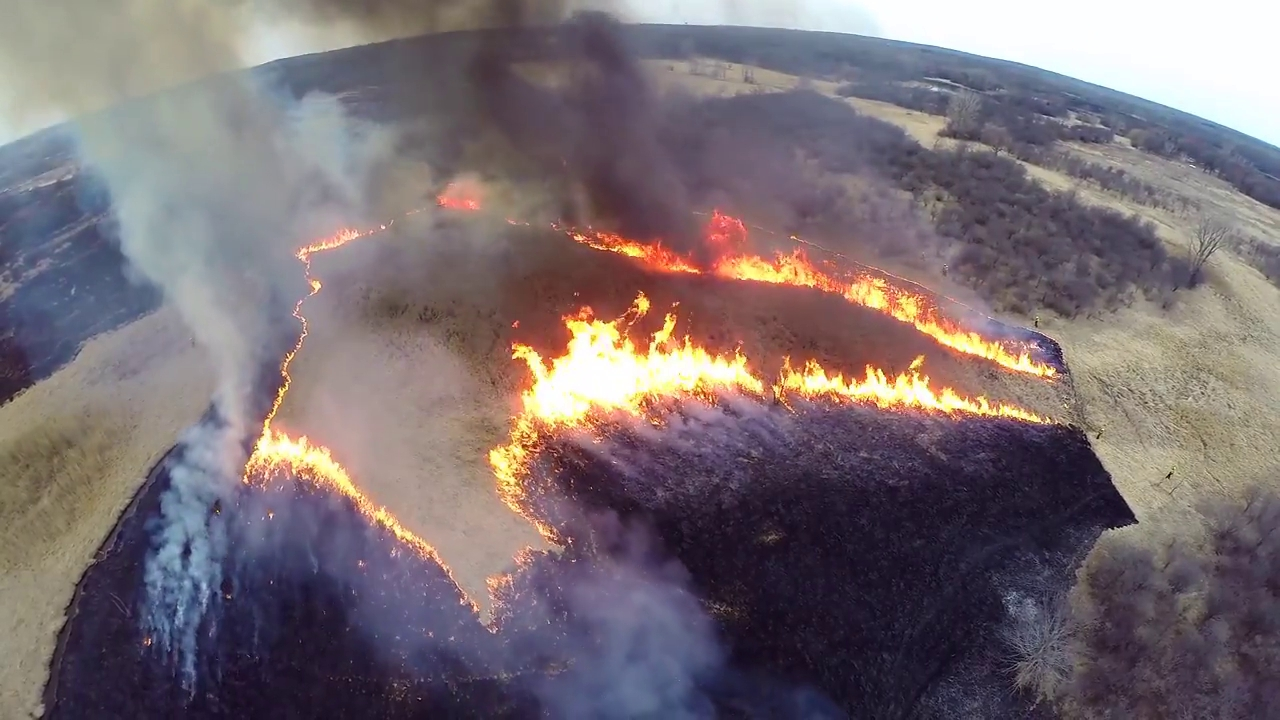forest_fire: (488, 293, 1048, 516), (243, 226, 438, 560), (711, 212, 1050, 374), (560, 228, 704, 273), (438, 194, 479, 209), (528, 517, 536, 524), (921, 329, 929, 333), (440, 562, 441, 564)
